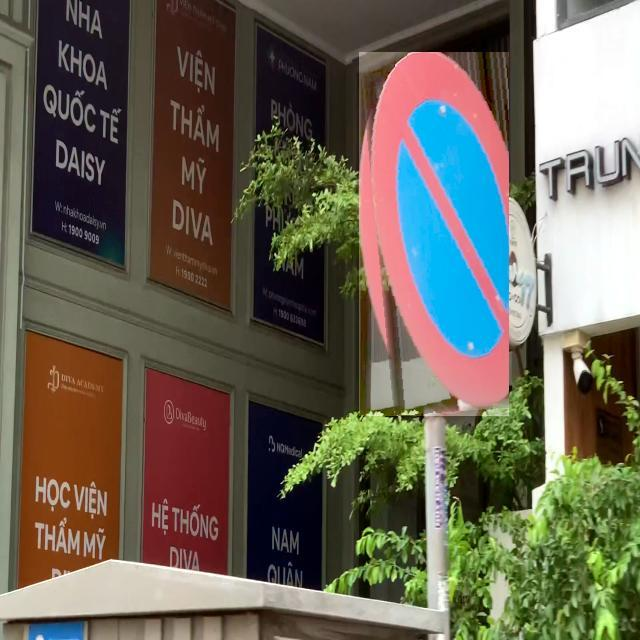P-131a: (359, 52, 509, 416)
